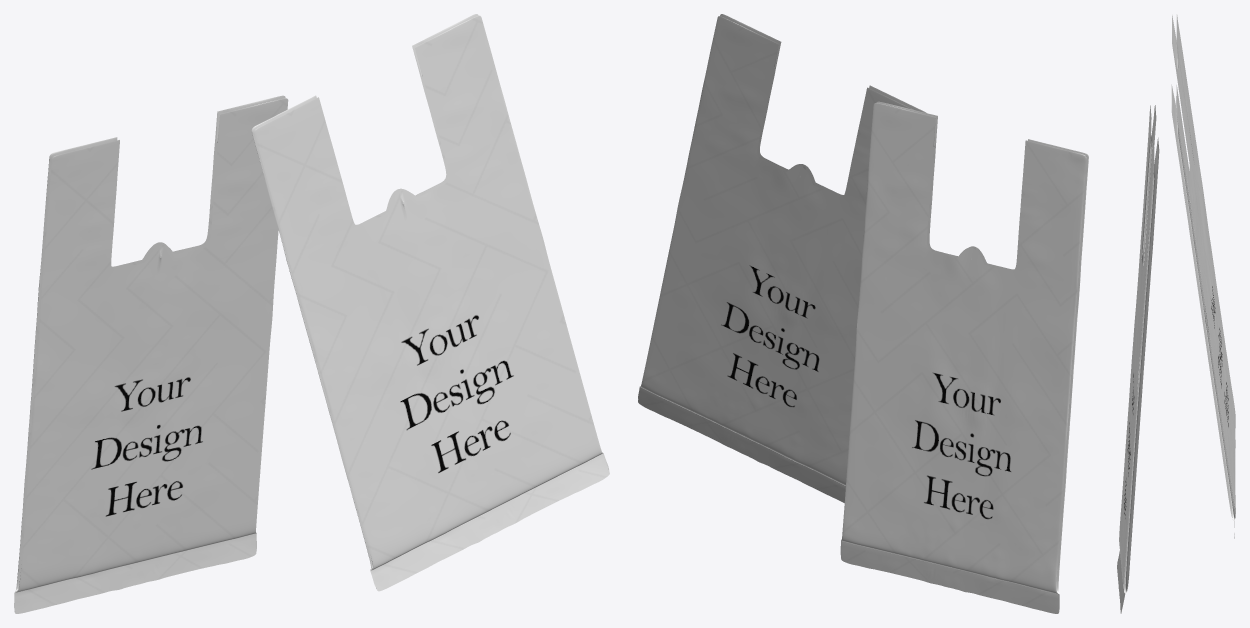
The model's file is Bio de A-4.glb.
The picture shows the model from 3 angles, left to right: view 1: azimuth 30°, elevation 25°; view 2: azimuth 150°, elevation 25°; view 3: azimuth 270°, elevation 25°; orthographic projection. The views are drawn at different scales.
Visible parts, largest first — view 1: Plane.003, Plane.002; view 2: Plane.002, Plane.003; view 3: Plane.002, Plane.003.
Boxes of the visible parts, x1,y1,x2,y2 form: Plane.003: (251, 14, 609, 591); Plane.002: (14, 95, 288, 613); Plane.002: (840, 101, 1088, 613); Plane.003: (638, 14, 926, 502); Plane.002: (1171, 14, 1235, 538); Plane.003: (1117, 105, 1159, 613).
Size of the model in its own units: 4 by 3.81 by 0.8809.
Materials: 1 (1 with a texture image).
